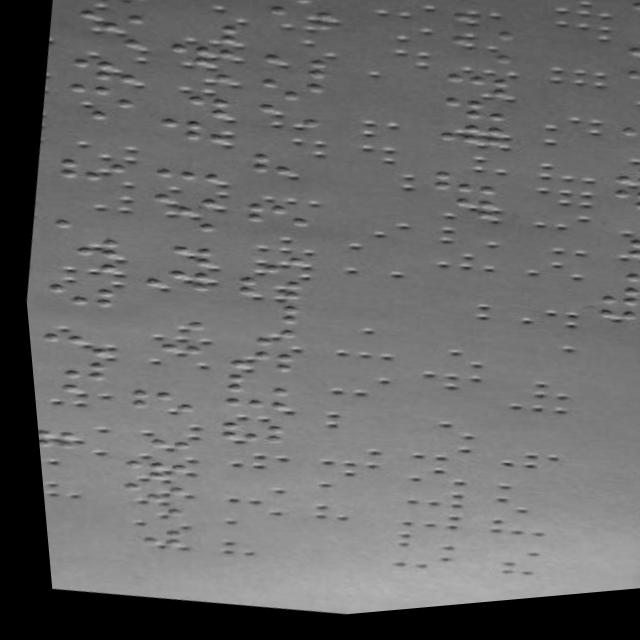braiile: (250, 76, 326, 116), (61, 79, 136, 117), (37, 278, 114, 315), (30, 352, 105, 388), (205, 418, 281, 453), (437, 101, 508, 137), (227, 300, 297, 335), (115, 523, 174, 552), (264, 0, 341, 18), (603, 195, 640, 230), (599, 270, 640, 301), (175, 0, 248, 8), (624, 11, 640, 41)
